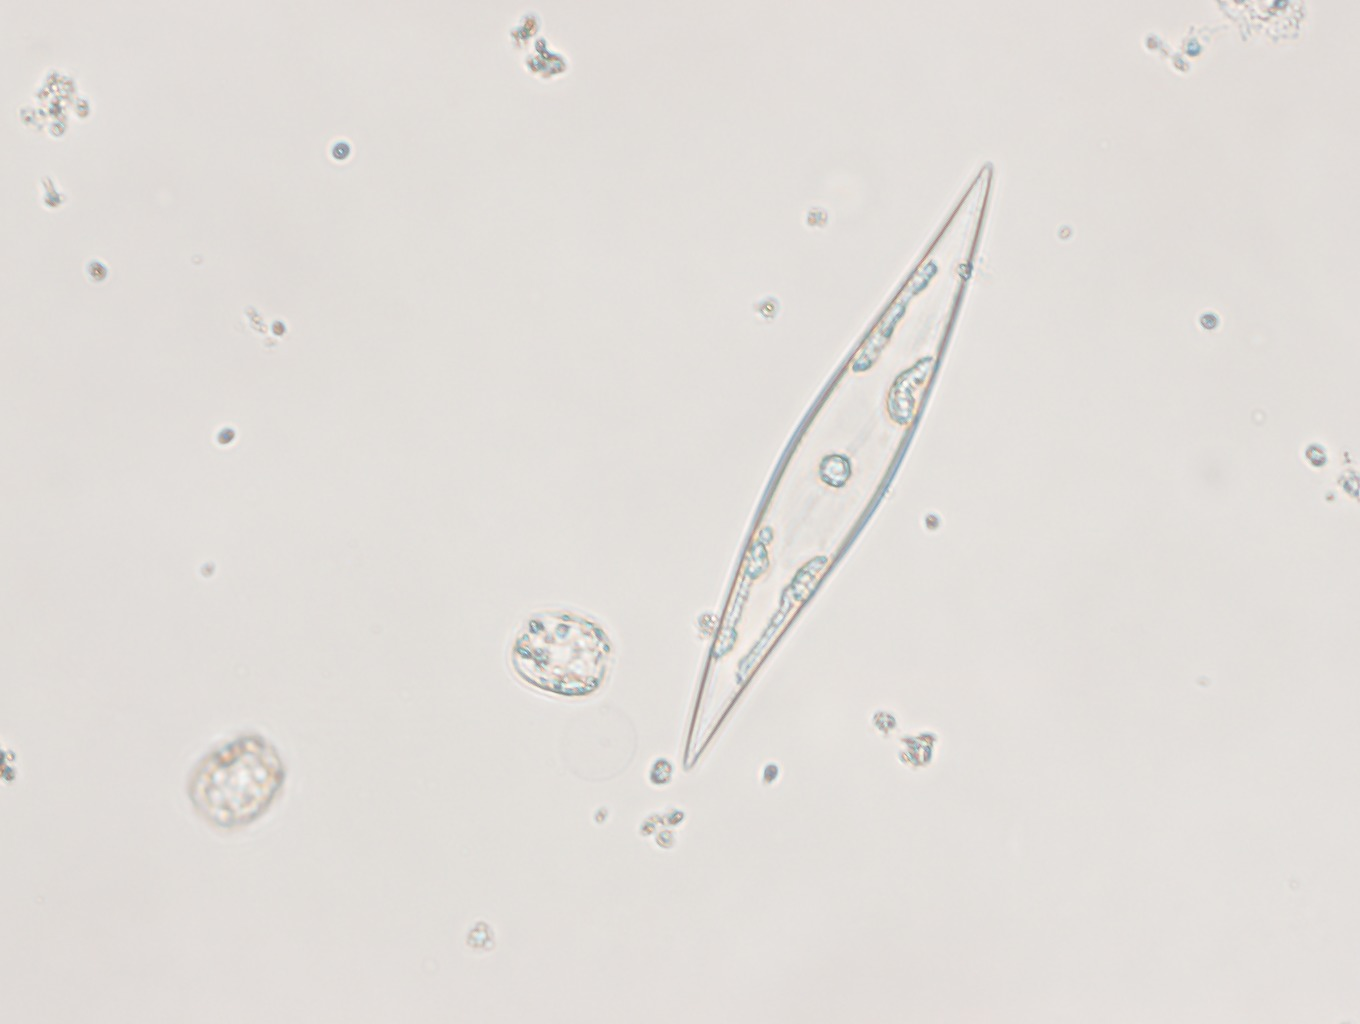pleurosigma pelagicum: (678, 150, 1000, 780)
